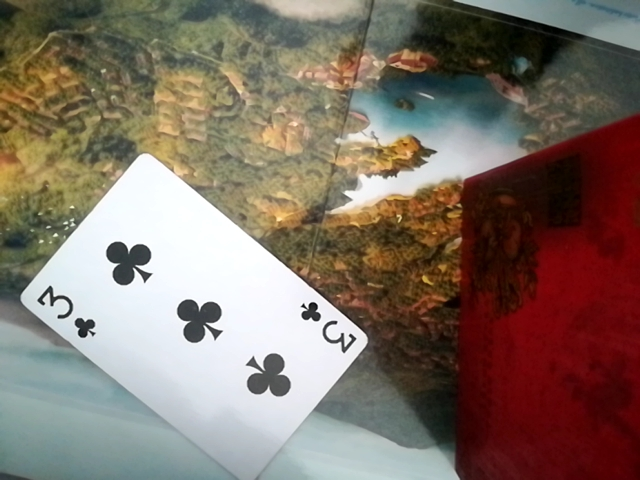mh 3: (7, 157, 364, 471)
